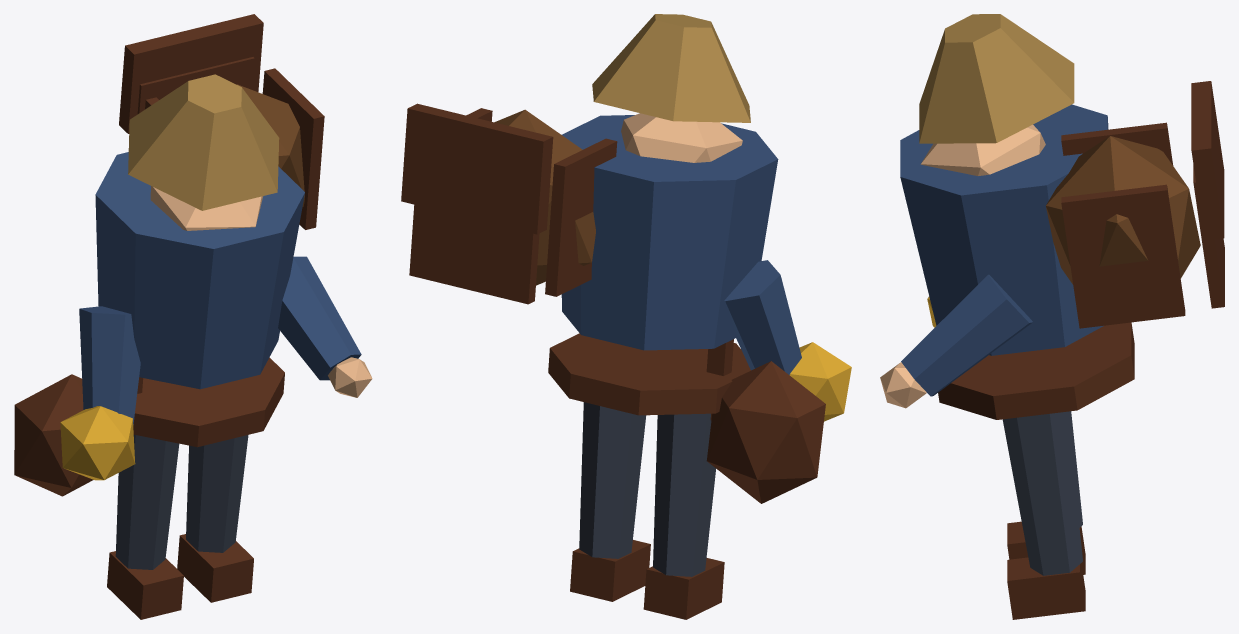
The model's file is npcpose_merchant_idle_05.glb.
3 views of the same model, side by side, from view 1: azimuth 30°, elevation 25°; view 2: azimuth 150°, elevation 25°; view 3: azimuth 270°, elevation 25° (orthographic). The views are drawn at different scales.
Visible parts, largest first — view 1: npcpose; view 2: npcpose; view 3: npcpose.
Part boxes in pixels (box(x1,y1,x2,y2)): npcpose: box(14, 14, 372, 619); npcpose: box(401, 14, 851, 619); npcpose: box(880, 14, 1224, 619).
Bounding box in the file's own units: 1.2 × 1.89 × 1.04.
